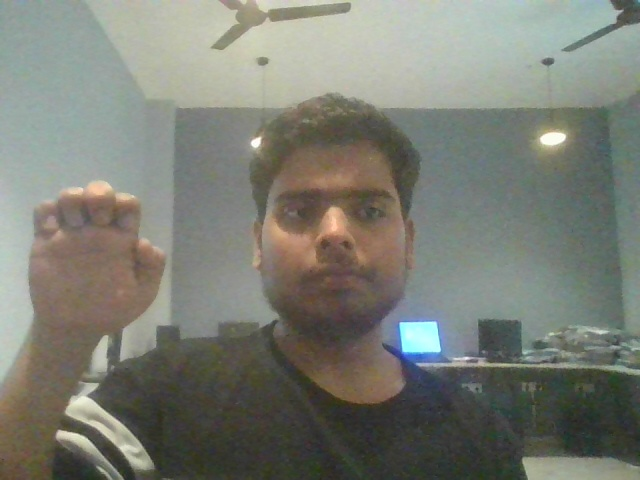C: (16, 173, 183, 364)
